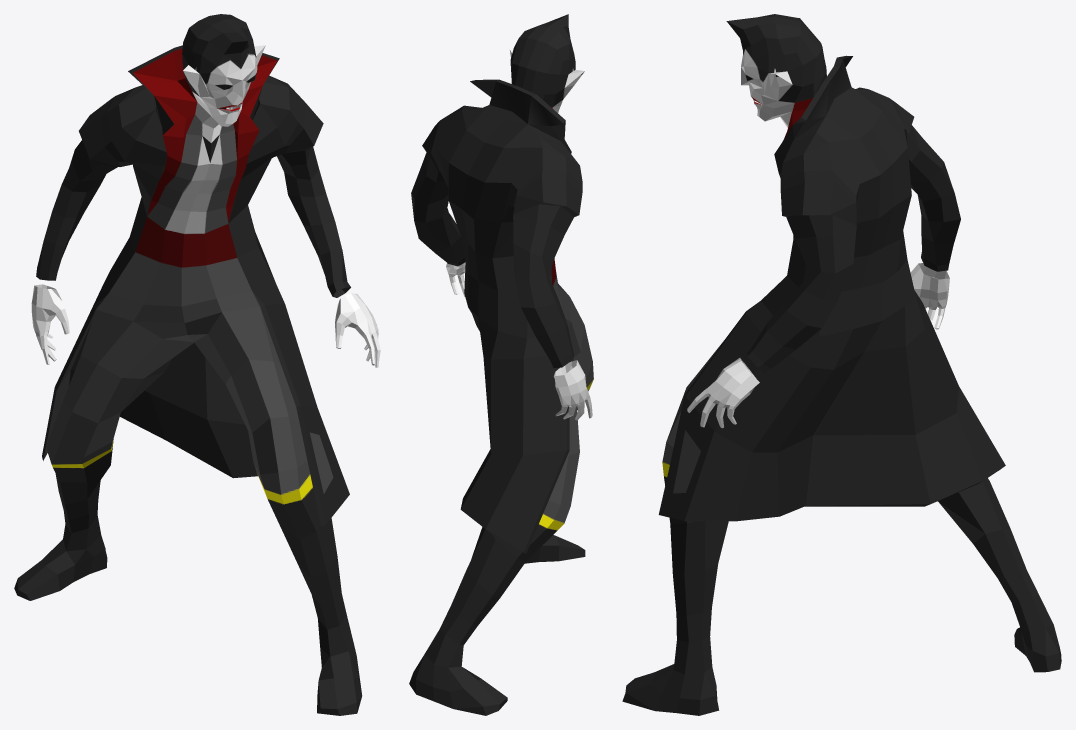
File: VampireIdle(5).obj
3 renders of one model, left to right at view 1: azimuth 30°, elevation 25°; view 2: azimuth 150°, elevation 25°; view 3: azimuth 270°, elevation 25°, orthographic. The views are drawn at different scales.
Parts seen in each view (by area): view 1: Plane002; view 2: Plane002; view 3: Plane002.
Part boxes in pixels (left/top/right/bottom): Plane002: left=14, top=14, right=380, bottom=715; Plane002: left=409, top=14, right=593, bottom=715; Plane002: left=622, top=14, right=1061, bottom=715.
Size of the model in its own units: 121 by 305 by 185.
